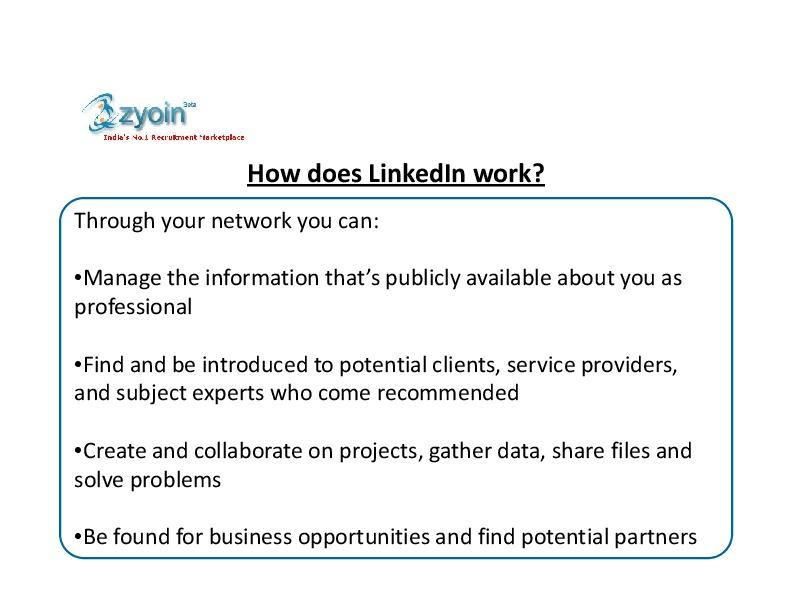paragraph: (53, 187, 773, 586)
title: (238, 156, 559, 192)
